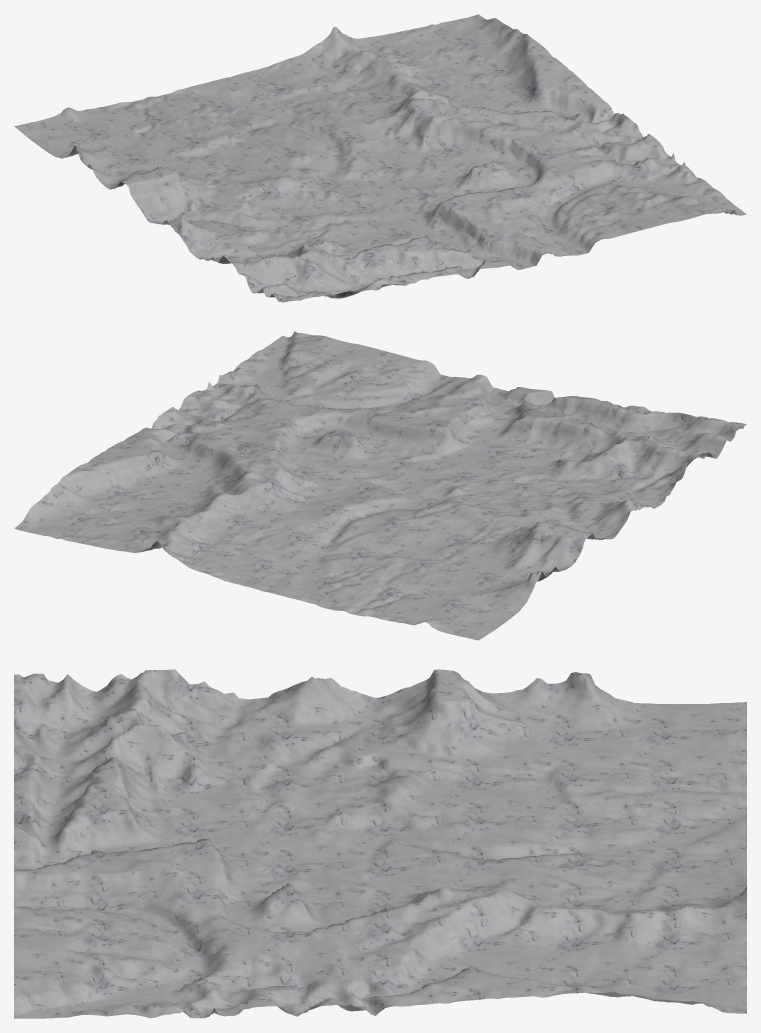
File: snow1.glb
3 views of the same model, one above another, from view 1: azimuth 30°, elevation 25°; view 2: azimuth 150°, elevation 25°; view 3: azimuth 270°, elevation 25° (orthographic). The views are drawn at different scales.
Parts seen in each view (by area): view 1: terrain; view 2: terrain; view 3: terrain.
Part boxes in pixels (x1=…): terrain: x1=14, y1=14, x2=746, y2=302; terrain: x1=14, y1=331, x2=746, y2=640; terrain: x1=14, y1=669, x2=746, y2=1018.
Bounding box in the file's own units: 500 × 30 × 500.
1 material, 1 textured.
